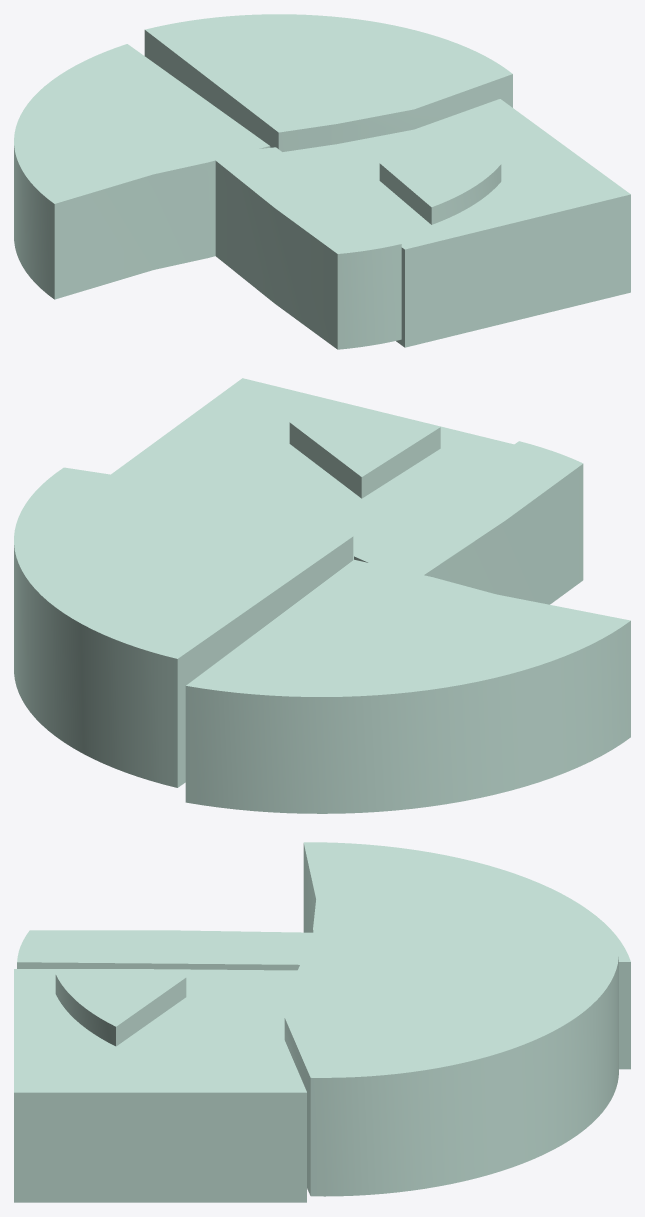
The picture shows the model from 3 angles, top to bottom: view 1: azimuth 30°, elevation 25°; view 2: azimuth 150°, elevation 25°; view 3: azimuth 270°, elevation 25°; orthographic projection. The views are drawn at different scales.
Parts seen in each view (by area): view 1: Renderer Node; view 2: Renderer Node; view 3: Renderer Node.
Boxes of the visible parts, <box> form: Renderer Node: <box>14,14,630,349</box>; Renderer Node: <box>14,378,630,813</box>; Renderer Node: <box>14,842,630,1202</box>.
Size of the model in its own units: 1.5 by 0.3672 by 1.55.
